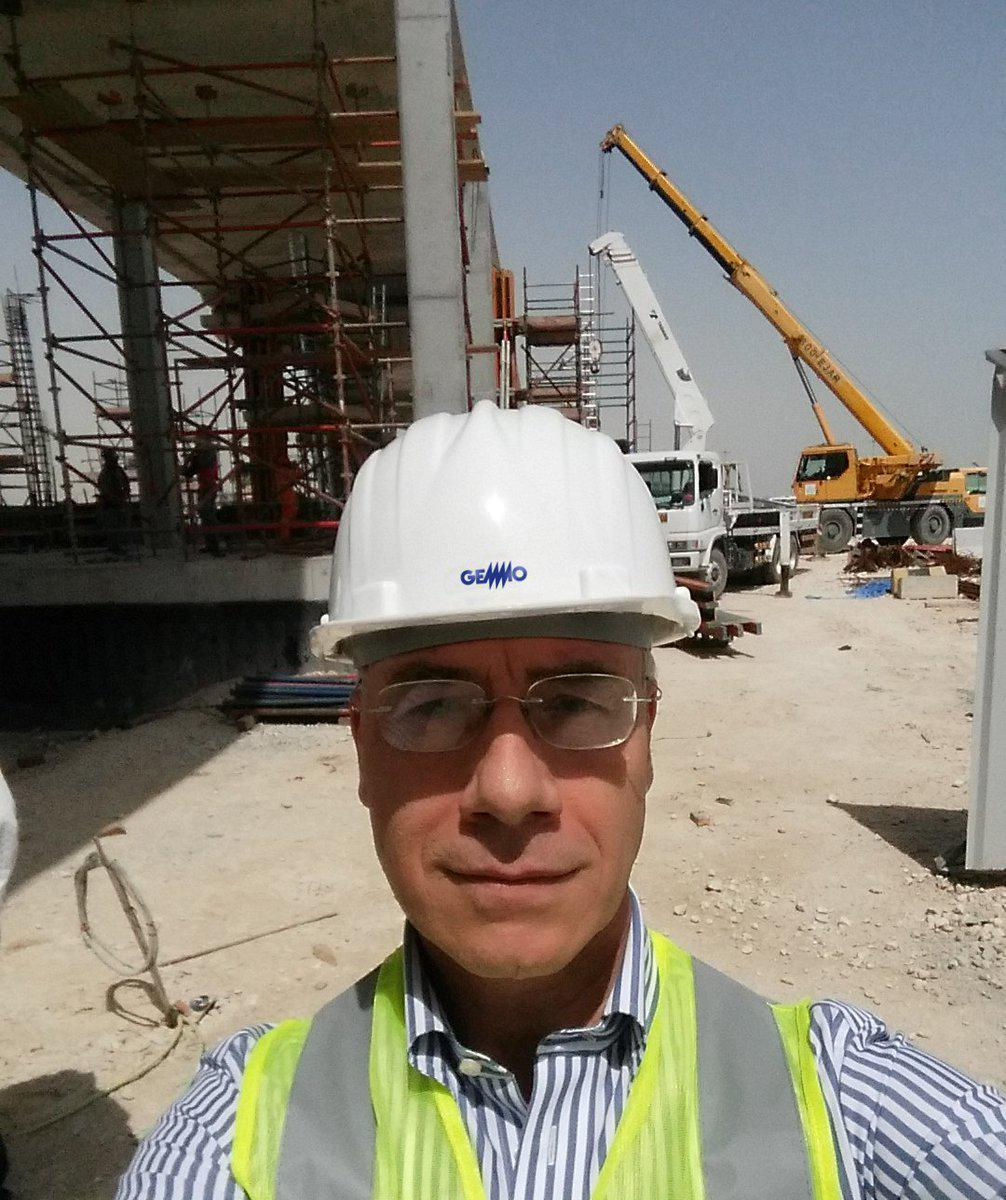helmet: (304, 400, 704, 655)
